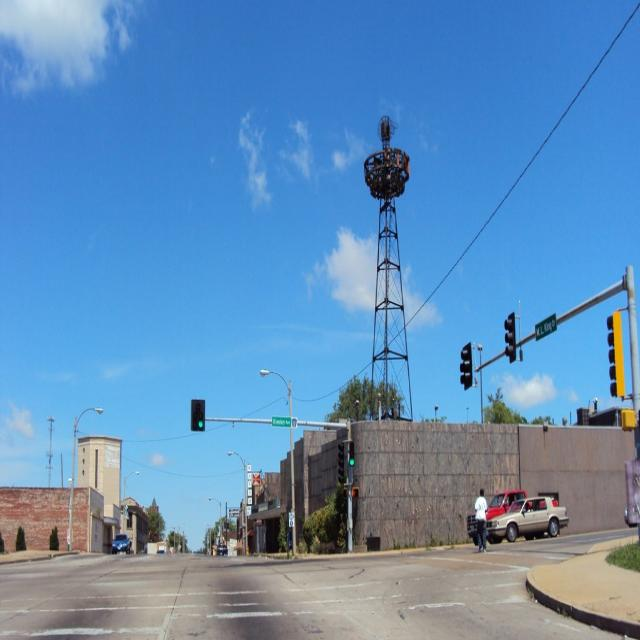car: (484, 497, 570, 541), (110, 529, 130, 555)
